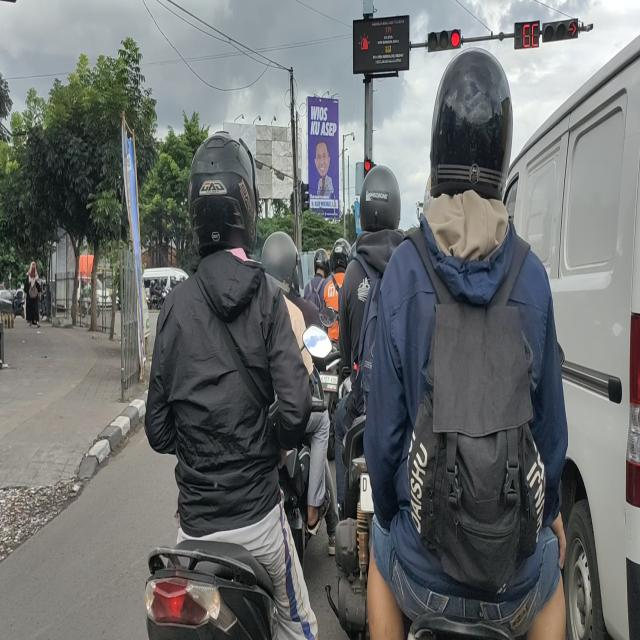helmet: (434, 52, 514, 199), (190, 125, 258, 242), (360, 166, 404, 232), (268, 232, 299, 292), (310, 241, 329, 280), (332, 239, 352, 274)
